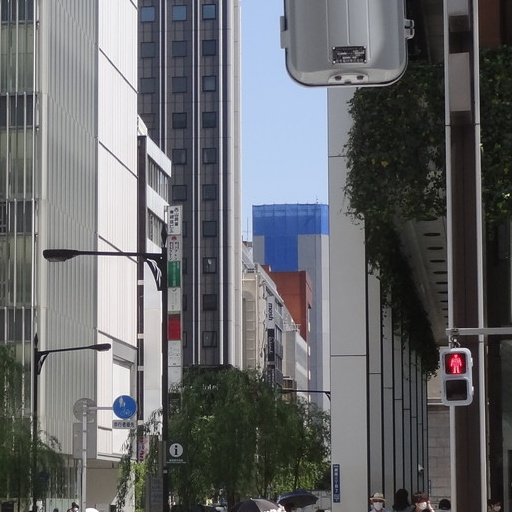Pedestrian_Signal_Red: (437, 338, 476, 410)
